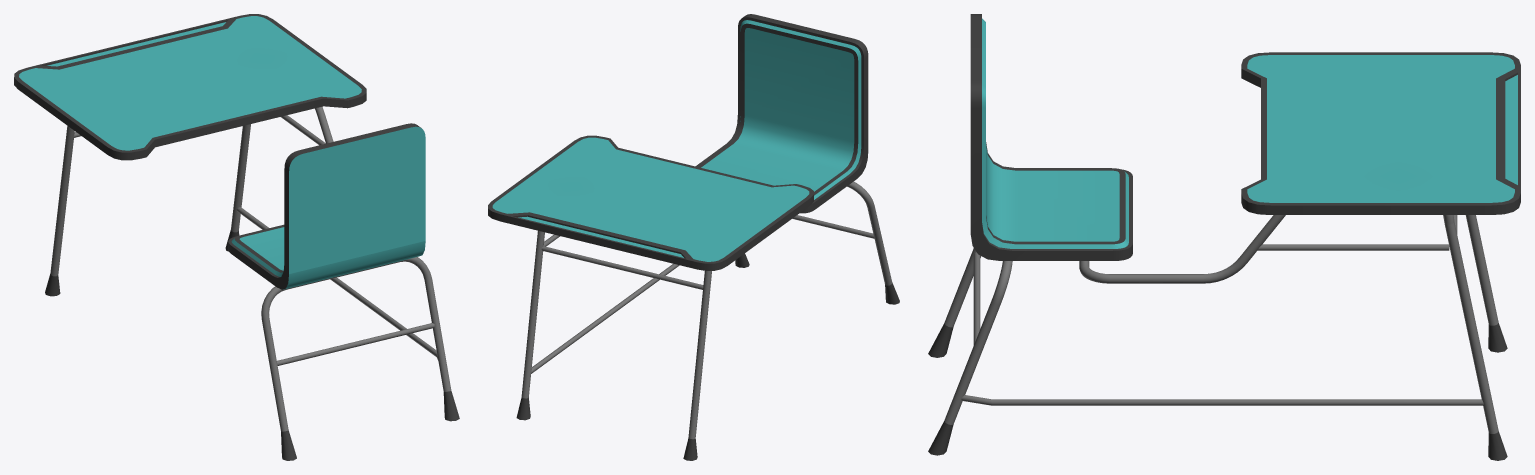
Rendered from Studant Table Chair LEVEL-2-3.fbx.
3 renders of one model, left to right at view 1: azimuth 30°, elevation 25°; view 2: azimuth 150°, elevation 25°; view 3: azimuth 270°, elevation 25°, orthographic. The views are drawn at different scales.
Parts seen in each view (by area): view 1: Studant Table Chair LEVEL-2-3; view 2: Studant Table Chair LEVEL-2-3; view 3: Studant Table Chair LEVEL-2-3.
Part boxes in pixels (bbox=[...]): Studant Table Chair LEVEL-2-3: bbox=[14, 14, 459, 460]; Studant Table Chair LEVEL-2-3: bbox=[488, 14, 899, 460]; Studant Table Chair LEVEL-2-3: bbox=[928, 14, 1520, 460].
Bounding box in the file's own units: 7.16 × 7.71 × 11.71.
